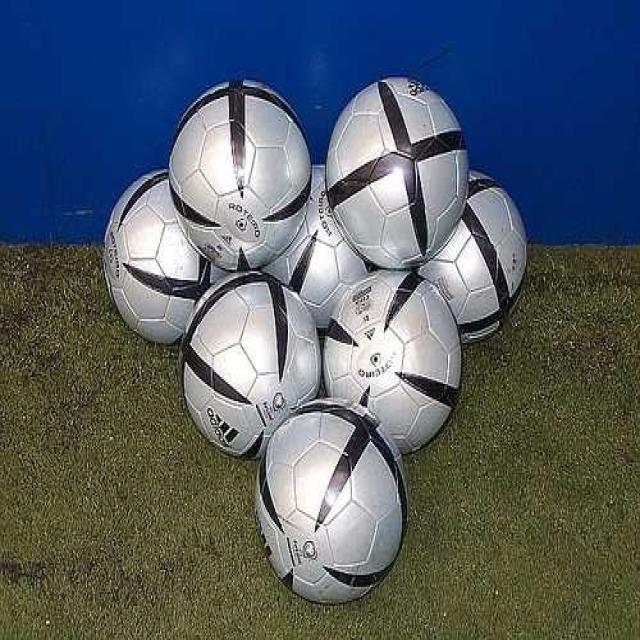ball: (250, 400, 410, 606), (170, 76, 312, 272), (318, 268, 464, 458), (327, 77, 468, 268), (183, 270, 323, 460), (105, 168, 215, 350), (417, 167, 531, 341)
